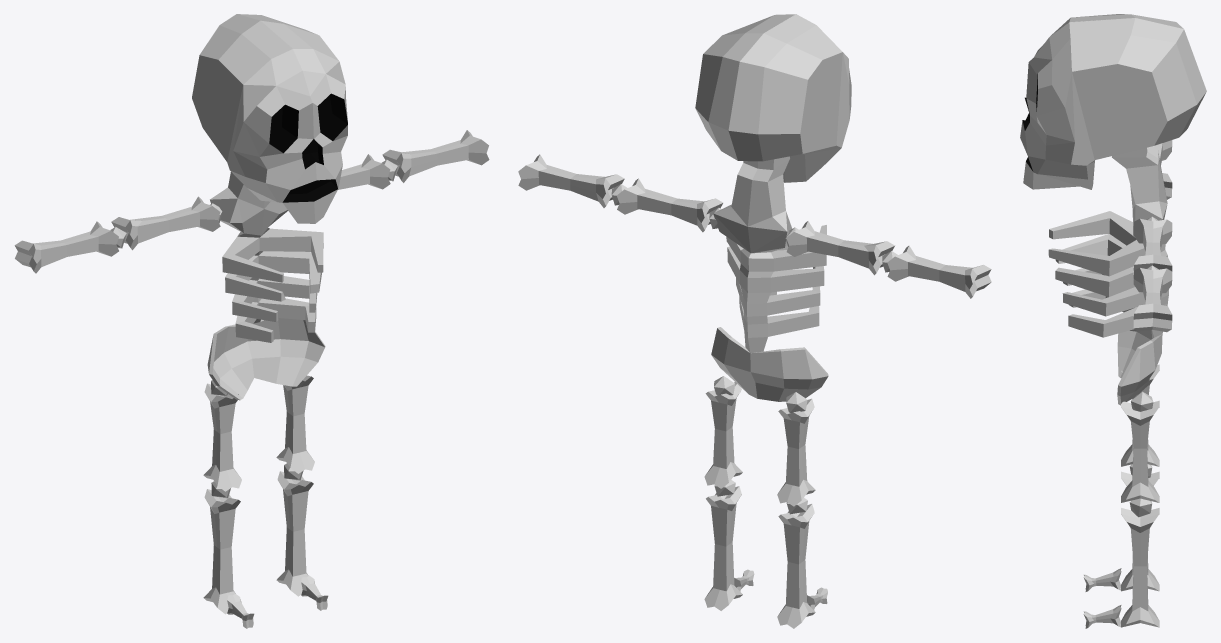
Rendered from Skeleton.fbx.
3 renders of one model, left to right at view 1: azimuth 30°, elevation 25°; view 2: azimuth 150°, elevation 25°; view 3: azimuth 270°, elevation 25°, orthographic.
Parts seen in each view (by area): view 1: Skeleton; view 2: Skeleton; view 3: Skeleton.
Part boxes in pixels (x1,y1,x2,y2): Skeleton: (14,14,489,628); Skeleton: (518,14,991,628); Skeleton: (1020,14,1206,628).
Size of the model in its own units: 0.8558 by 1.04 by 0.2989.
1 material, 1 textured.
